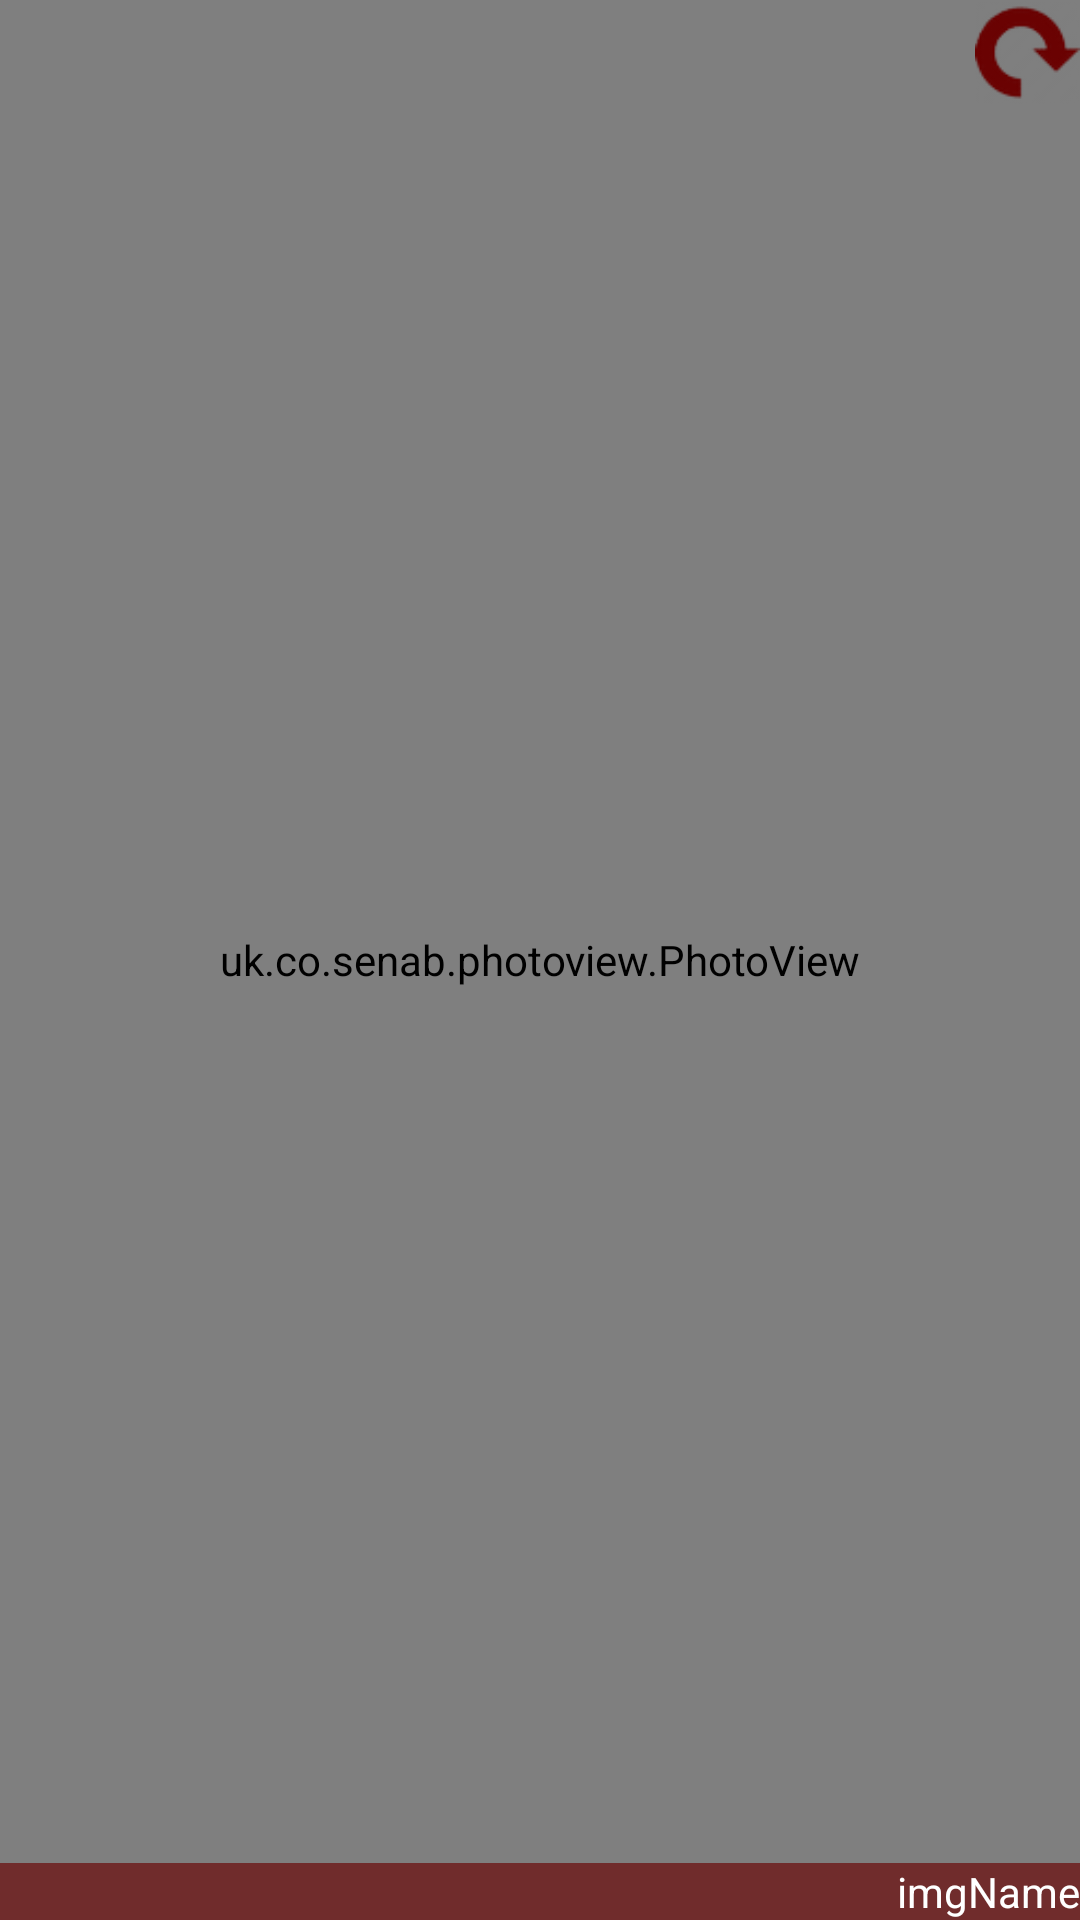

Locate icon controls on the screen. Image size 1080px x 1920px, boxes as (x1=x1, y1=y1, x2=x2, y2=y2).
rotate: (x1=975, y1=7, x2=1080, y2=98)
